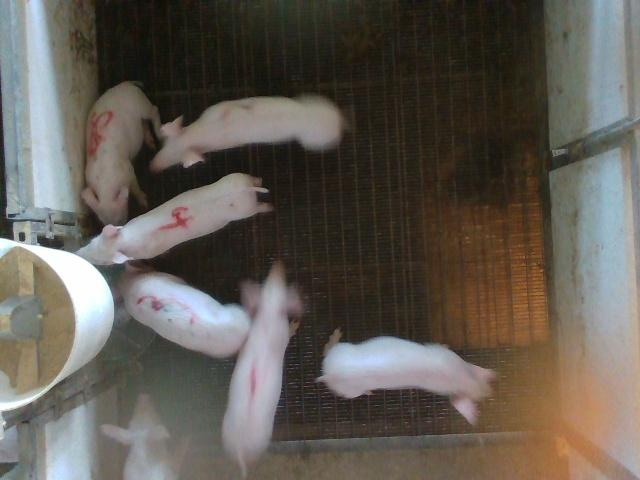pig-1: (222, 260, 302, 477)
pig-2: (150, 95, 344, 171)
pig-3: (118, 264, 250, 358)
pig-4: (76, 174, 272, 265)
pig-5: (81, 81, 160, 225)
